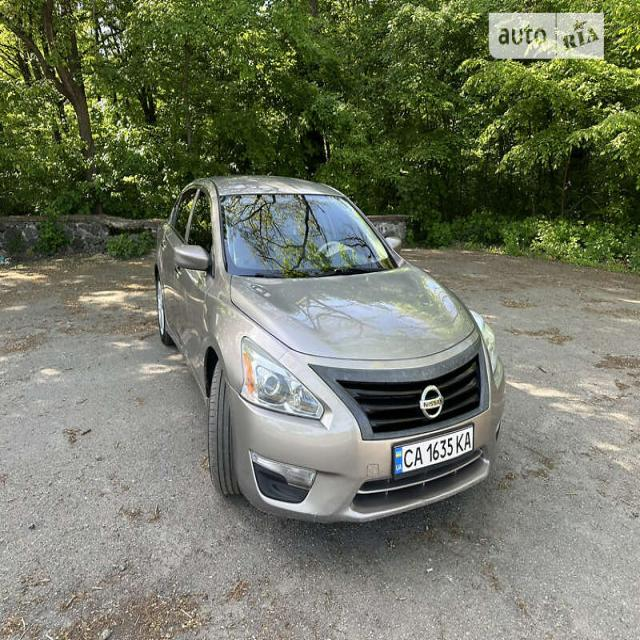plate: (392, 421, 475, 484)
